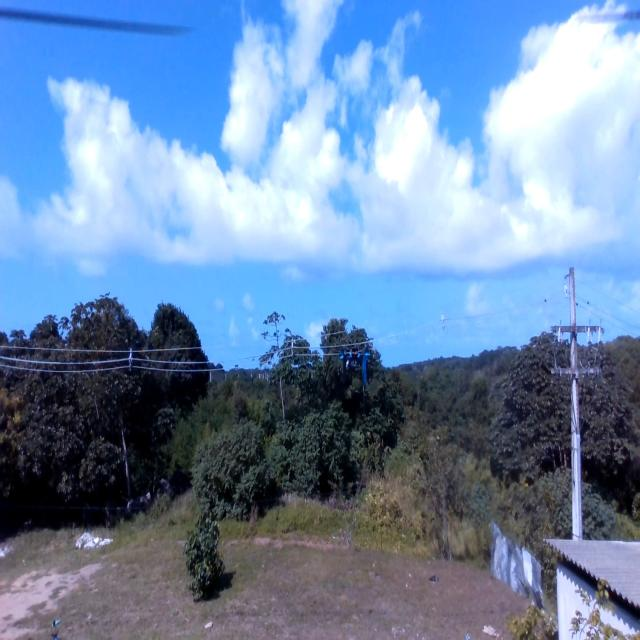-uav-: (334, 341, 385, 398)
